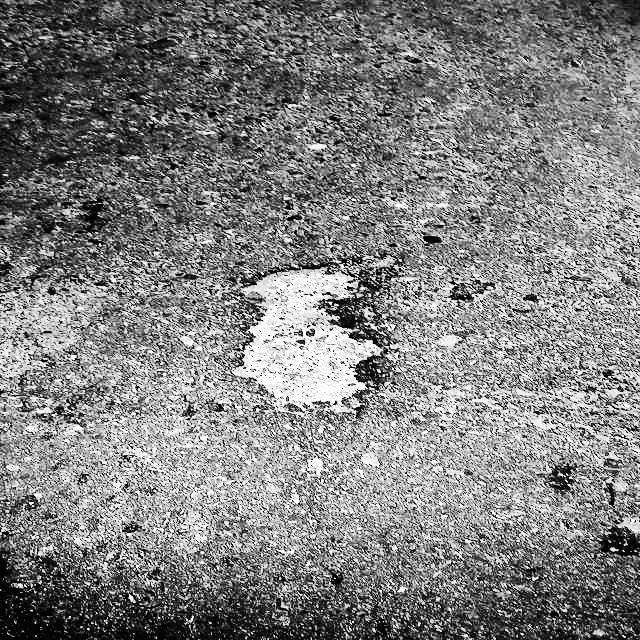Pothole: (239, 247, 375, 422)
